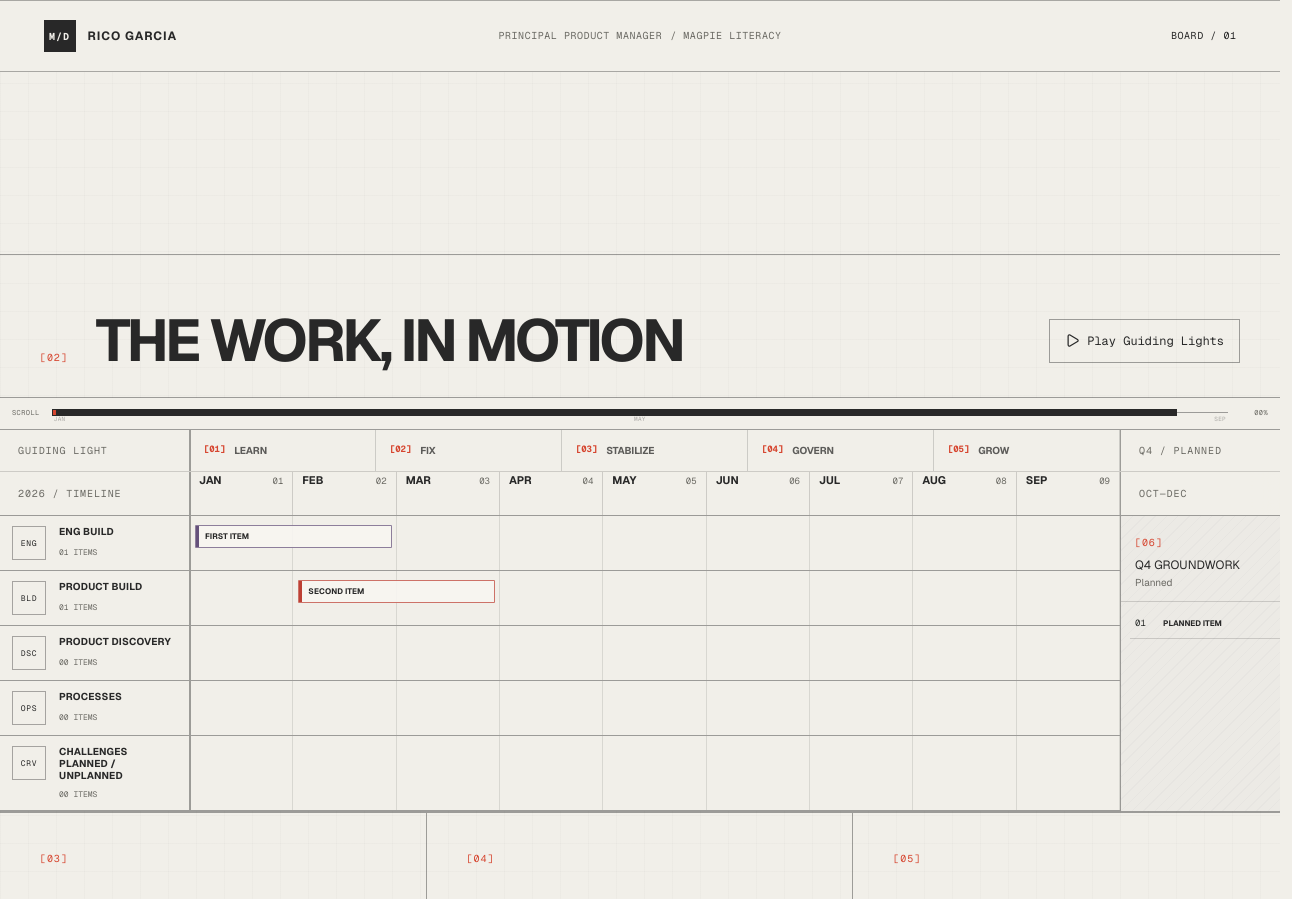
Test case: PublicTimeline Guiding Light narrative › starts collapsed with an unfiltered board and reveals a manually selected narrative above the scroll control
(page scrolled)
Check: the heading "Understand before deciding." is not shown
Click the button "[01] Learn" at (283, 450), box [190,430,376,471]
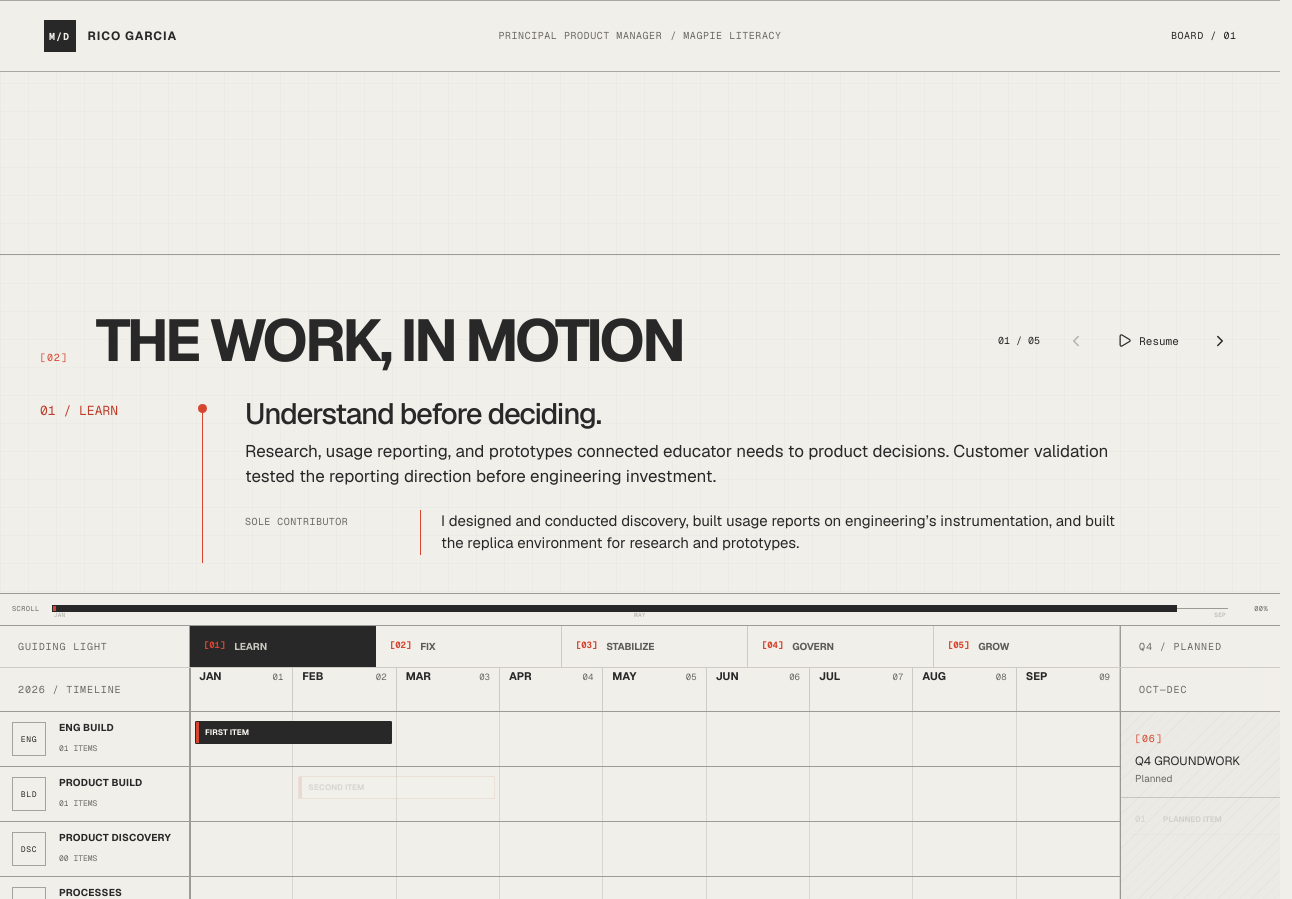
Check: the button with aria-label "Play Guiding Lights" is expanded, box [1102,319,1194,363]
Check: the text "Sole contributor" is shown, box [245,514,348,528]
